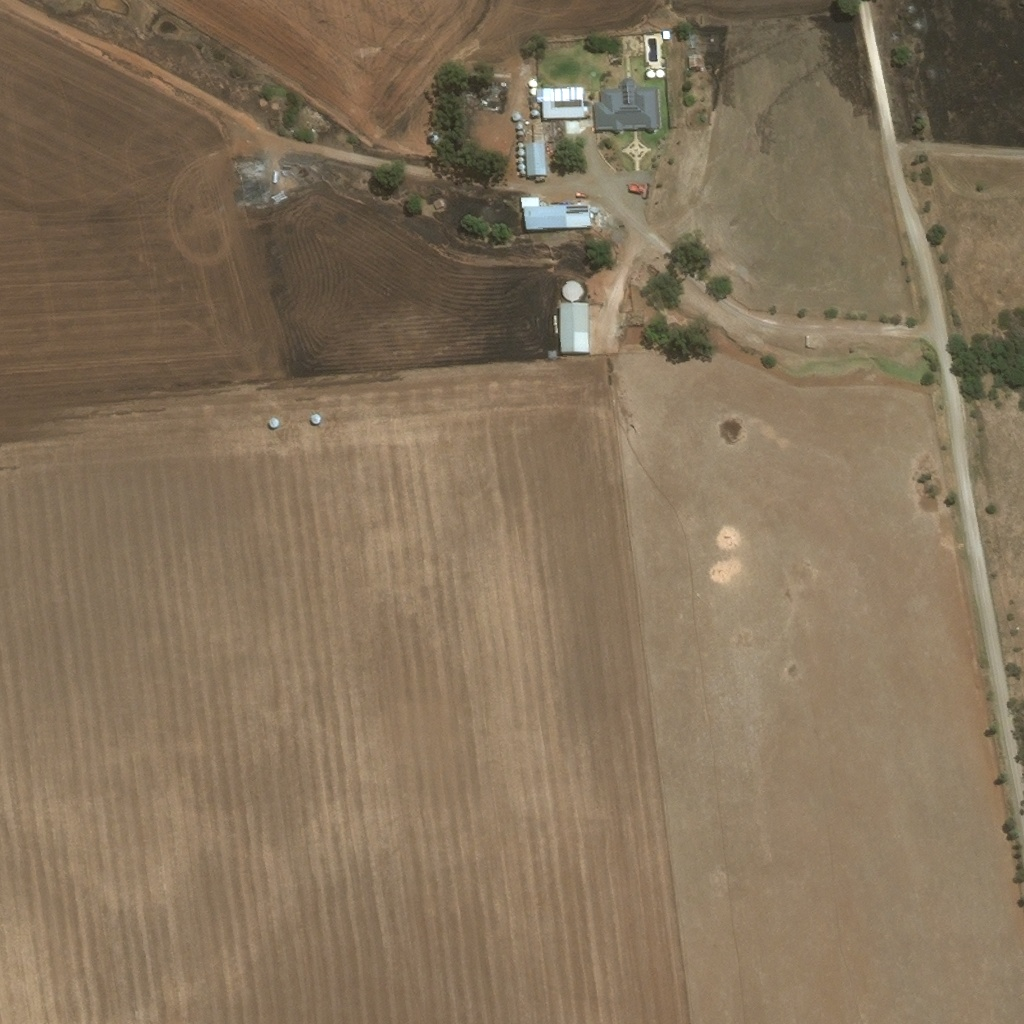0 no-damage: (593, 75, 657, 135), (520, 194, 591, 231), (537, 83, 585, 117), (559, 300, 589, 354), (642, 33, 663, 68), (526, 140, 545, 175), (561, 281, 581, 300), (686, 32, 695, 48), (645, 68, 655, 77), (655, 68, 664, 77), (531, 100, 539, 108), (662, 29, 669, 38), (517, 139, 525, 146), (517, 146, 525, 153), (517, 154, 525, 161), (518, 161, 526, 168), (518, 168, 526, 175), (517, 127, 525, 134), (530, 107, 538, 114), (529, 86, 537, 93), (528, 78, 536, 85)
1 minor-damage: (688, 52, 703, 66)
3 destroyed: (236, 155, 266, 205)
4 un-classified: (804, 335, 818, 349), (267, 97, 279, 109), (189, 68, 200, 80)
